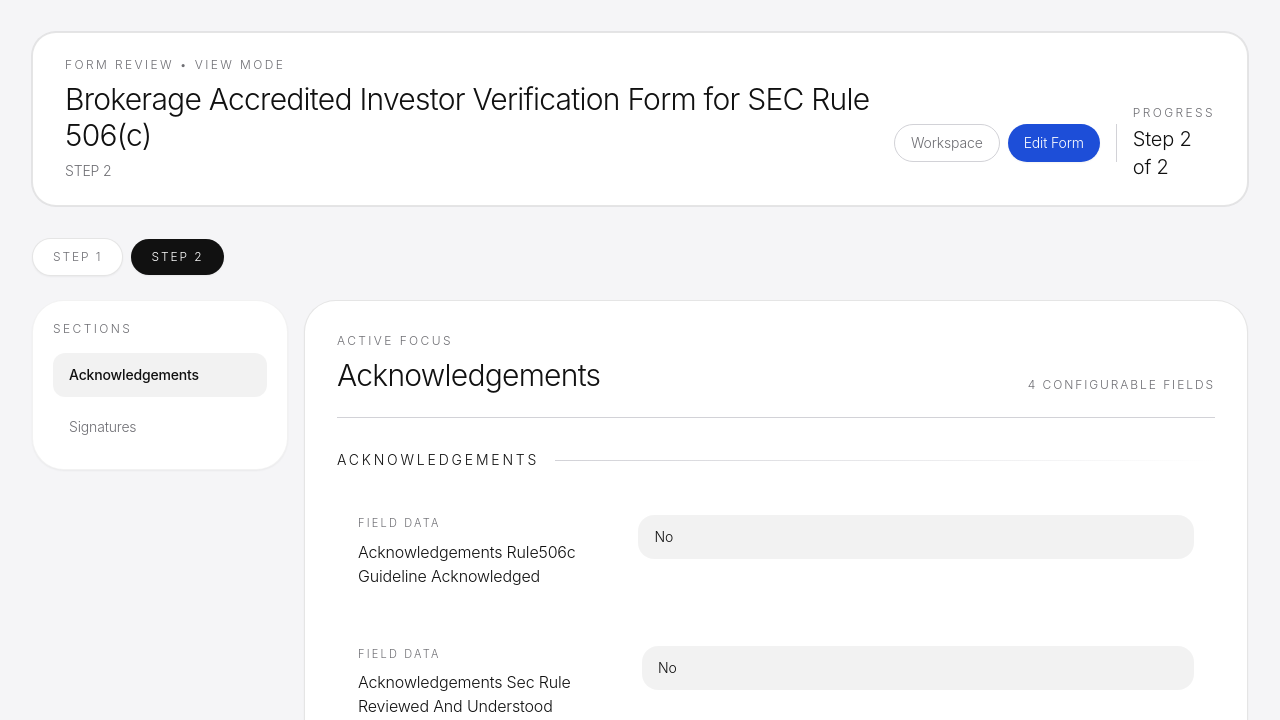
it: Client form review page › renders section tabs and shows em dash for empty values in view mode
Expected: the text "Form Review • View Mode" is shown, [65, 57, 285, 72]
Expected: the button "Acknowledgements" is shown, [53, 353, 267, 397]
Click the button "Signatures": (160, 427) [53, 405, 267, 449]
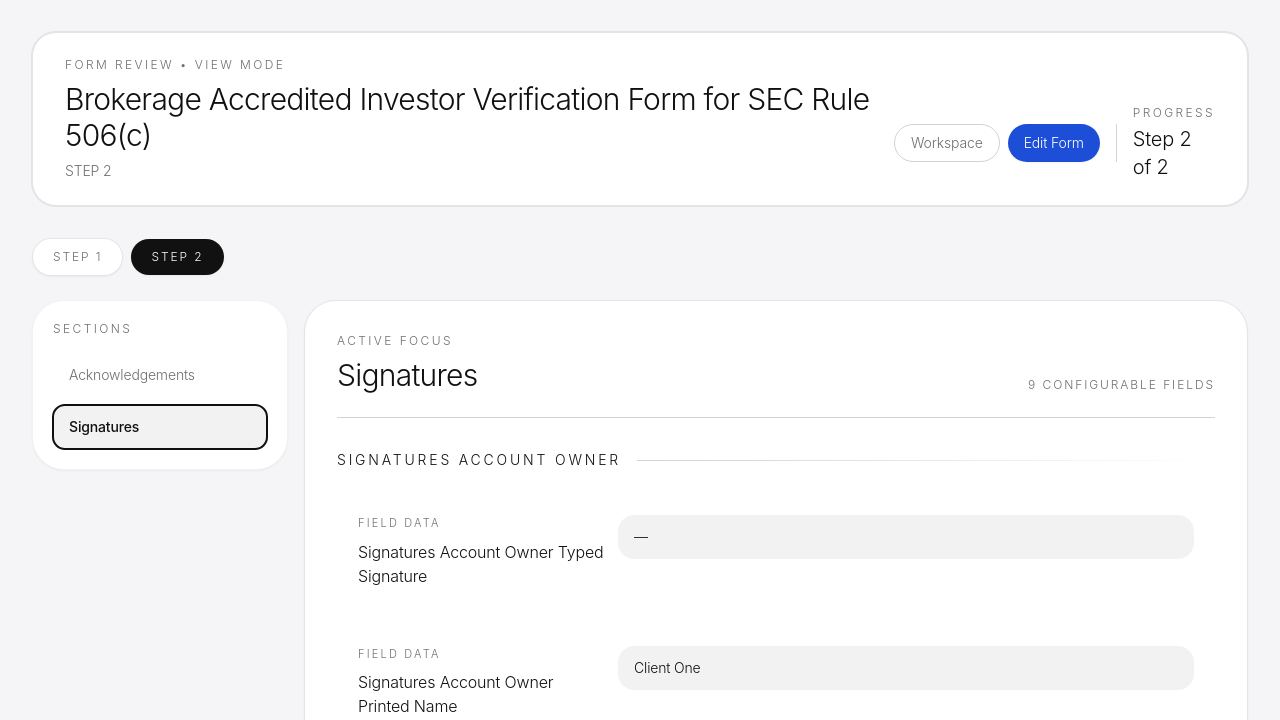
Result: the text "—" is shown at [618, 515, 1194, 559]
